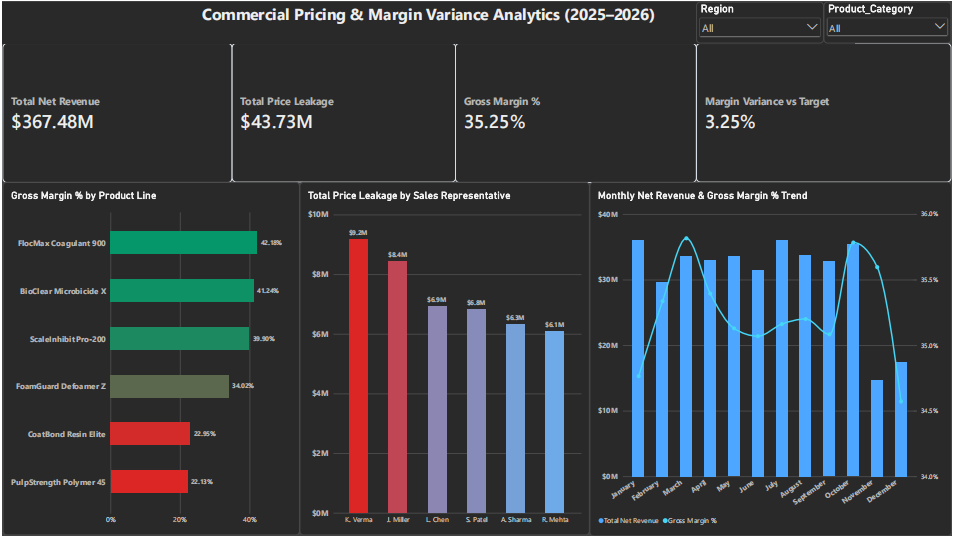

The dashboard page shown, as its layout file describes it:
{"tool":"powerbi","page":{"name":"Page 1","canvas":[1920,1080],"ordinal":0},"visuals":[{"type":"cardVisual","fields":{"Data":["solenis_commercial_pricing_data.Total Net Revenue"]},"box":[0,84,464,282],"z":0},{"type":"cardVisual","fields":{"Data":["solenis_commercial_pricing_data.Total Price Leakage"]},"box":[464,84,453.2,281.2],"z":1000},{"type":"cardVisual","fields":{"Data":["solenis_commercial_pricing_data.Gross Margin %"]},"box":[916,84,488,282],"z":2000},{"type":"cardVisual","fields":{"Data":["solenis_commercial_pricing_data.Margin Variance vs Target"]},"box":[1403.8,83.9,516.2,281.2],"z":3000},{"type":"clusteredBarChart","title":"Gross Margin % by Product Line","fields":{"Category":["solenis_commercial_pricing_data.Product_Name"],"Y":["solenis_commercial_pricing_data.Gross Margin %"]},"box":[0,364.6,601.1,715.4],"z":4000},{"type":"clusteredColumnChart","title":"Total Price Leakage by Sales Representative","fields":{"Category":["solenis_commercial_pricing_data.Sales_Rep"],"Y":["solenis_commercial_pricing_data.Total Price Leakage"]},"box":[601.1,364.6,587.3,715.4],"z":5000},{"type":"lineStackedColumnComboChart","title":"Monthly Net Revenue & Gross Margin % Trend","fields":{"Category":["solenis_commercial_pricing_data.Order_Date.Variation.Date Hierarchy.Year","solenis_commercial_pricing_data.Order_Date.Variation.Date Hierarchy.Month"],"Y":["solenis_commercial_pricing_data.Total Net Revenue"],"Y2":["solenis_commercial_pricing_data.Gross Margin %"]},"box":[1188.4,364.6,732.4,717.1],"z":6000},{"type":"textbox","box":[0,0,1724.9,83.9],"z":7000},{"type":"slicer","fields":{"Values":["solenis_commercial_pricing_data.Region"]},"box":[1404,0,258,84],"z":8000},{"type":"slicer","fields":{"Values":["solenis_commercial_pricing_data.Product_Category"]},"box":[1662,0,258,84],"z":9000}]}

Visuals, with their boxes in screenshot pixels (x1, y1, x2, y2), scaled from the page's 1920x1080 canvas onto the 953x539 screenshot:
cardVisual - solenis_commercial_pricing_data.Total Net Revenue: BBox(0, 42, 230, 183)
cardVisual - solenis_commercial_pricing_data.Total Price Leakage: BBox(230, 42, 455, 182)
cardVisual - solenis_commercial_pricing_data.Gross Margin %: BBox(455, 42, 697, 183)
cardVisual - solenis_commercial_pricing_data.Margin Variance vs Target: BBox(697, 42, 952, 182)
"Gross Margin % by Product Line" clusteredBarChart: BBox(0, 182, 298, 538)
"Total Price Leakage by Sales Representative" clusteredColumnChart: BBox(298, 182, 590, 538)
"Monthly Net Revenue & Gross Margin % Trend" lineStackedColumnComboChart: BBox(590, 182, 952, 538)
textbox: BBox(0, 0, 856, 42)
slicer - solenis_commercial_pricing_data.Region: BBox(697, 0, 825, 42)
slicer - solenis_commercial_pricing_data.Product_Category: BBox(825, 0, 952, 42)
